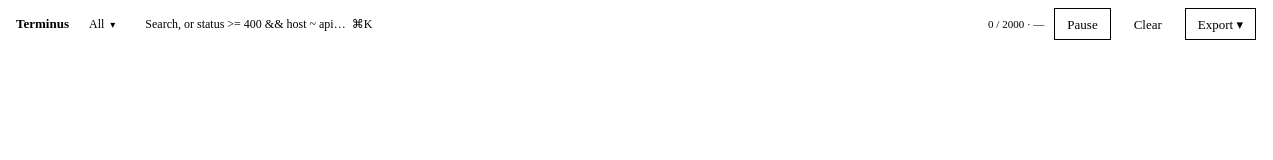
Test case: Topbar › surfaces an inline error when setPaused rejects (no unhandled rejection)
Click the button "Pause": (1082, 24) [1054,8,1111,40]
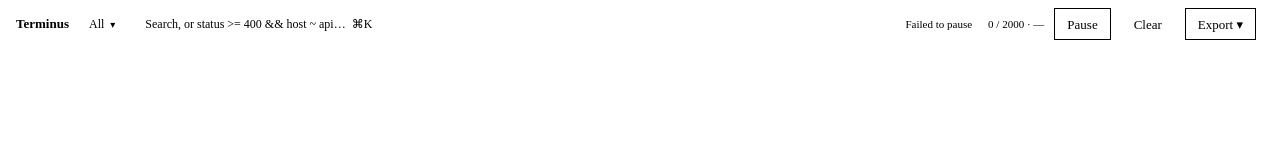
Expected: the text "Failed to pause" is shown, [906,18,972,30]
